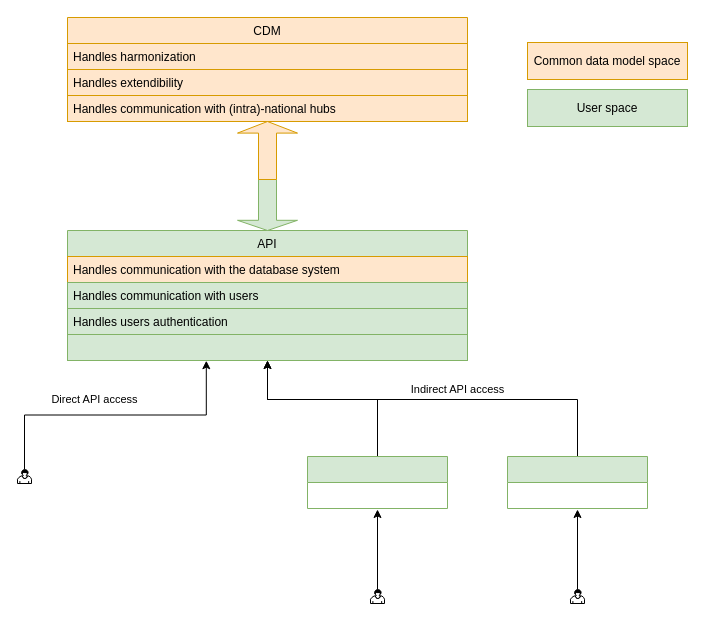
Some shapes in this 705 by 621 pixel diagram are drawn without their labels. Each missing label, with the centre of its shape:
GUI: (577,482)
Handles security: (267,347)
Web interface: (377,482)
